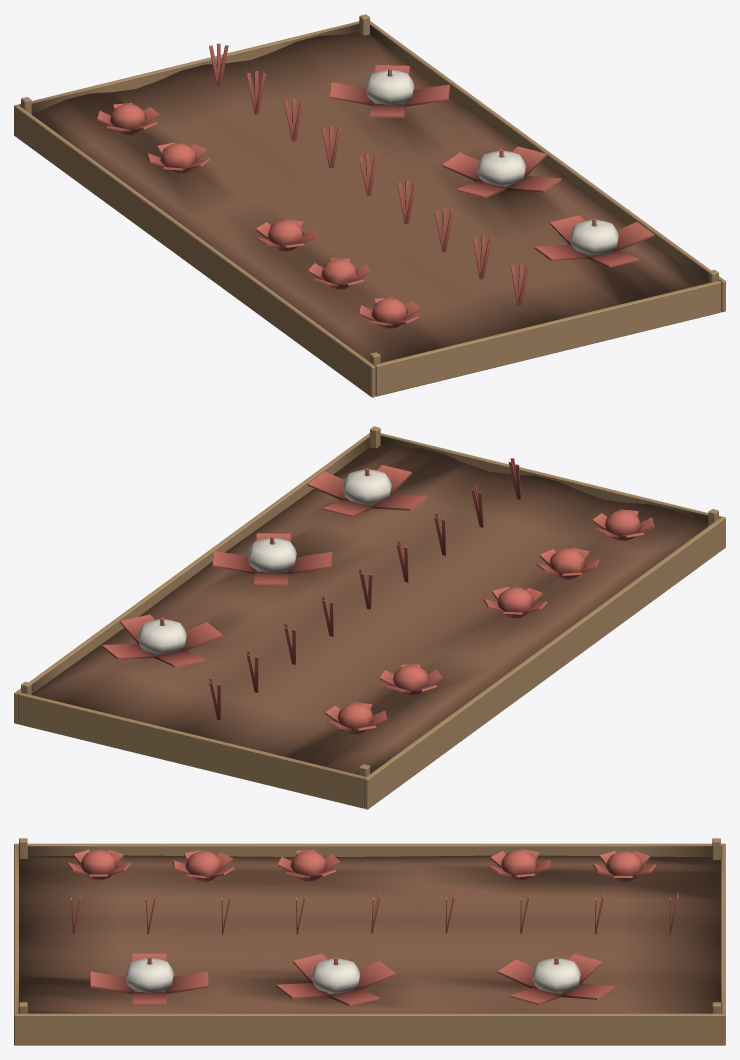
3 renders of one model, top to bottom at view 1: azimuth 30°, elevation 25°; view 2: azimuth 150°, elevation 25°; view 3: azimuth 270°, elevation 25°, orthographic.
Parts seen in each view (by area): view 1: PART; view 2: PART; view 3: PART.
Part boxes in pixels (x1,y1,x2,y2): PART: (14, 14, 725, 397); PART: (14, 426, 725, 809); PART: (14, 838, 725, 1045).
Size of the model in its own units: 2.4 by 0.4266 by 4.2.
